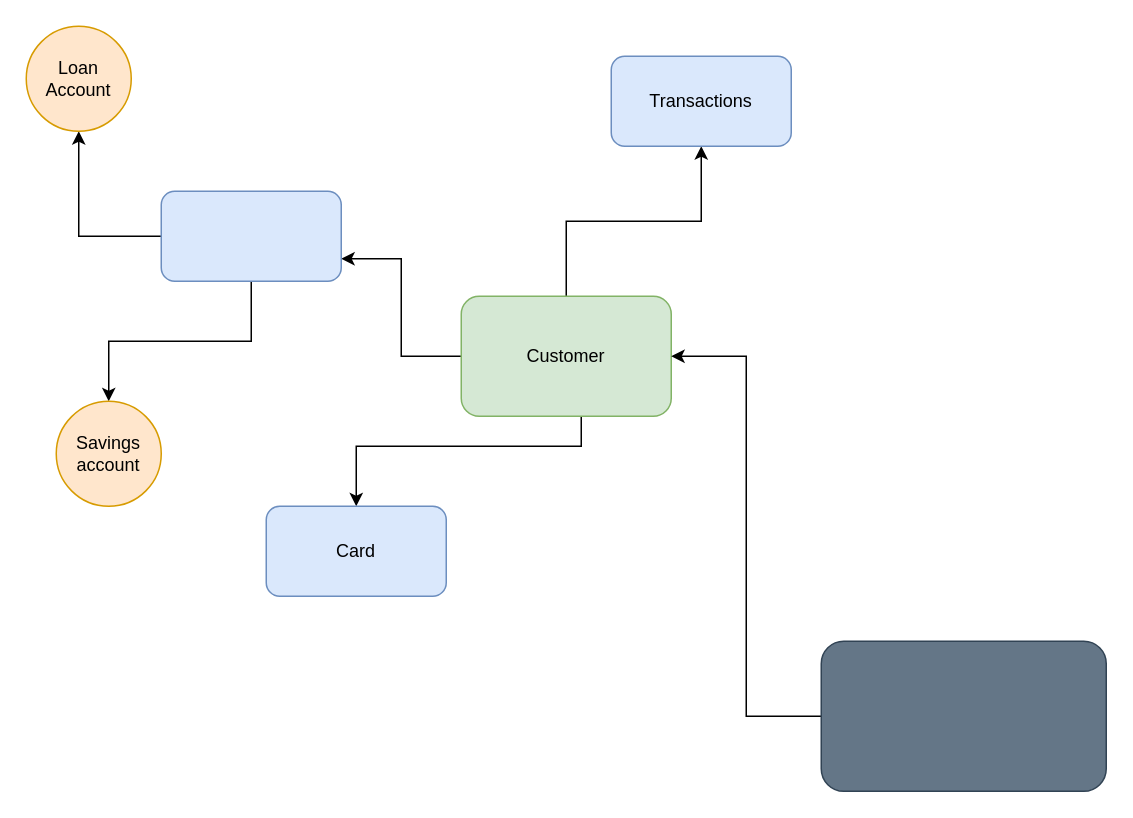
The diagram is 1133 pixels wide and 818 high, and some of its shapes have lost their labels. Each missing label, with the centre of its shape:
"Account" belongs at pixel 250 235.
"BANK" belongs at pixel 963 715.
